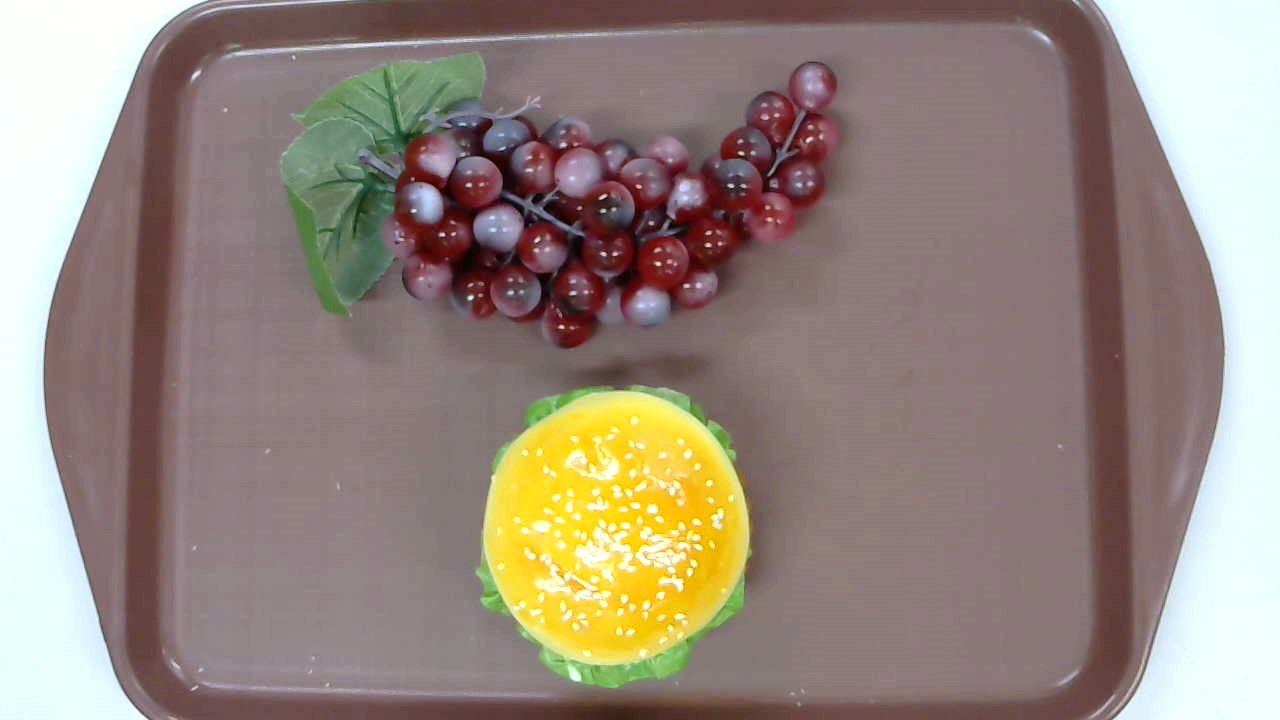grape: (278, 50, 841, 352)
hamburger: (473, 382, 753, 689)
